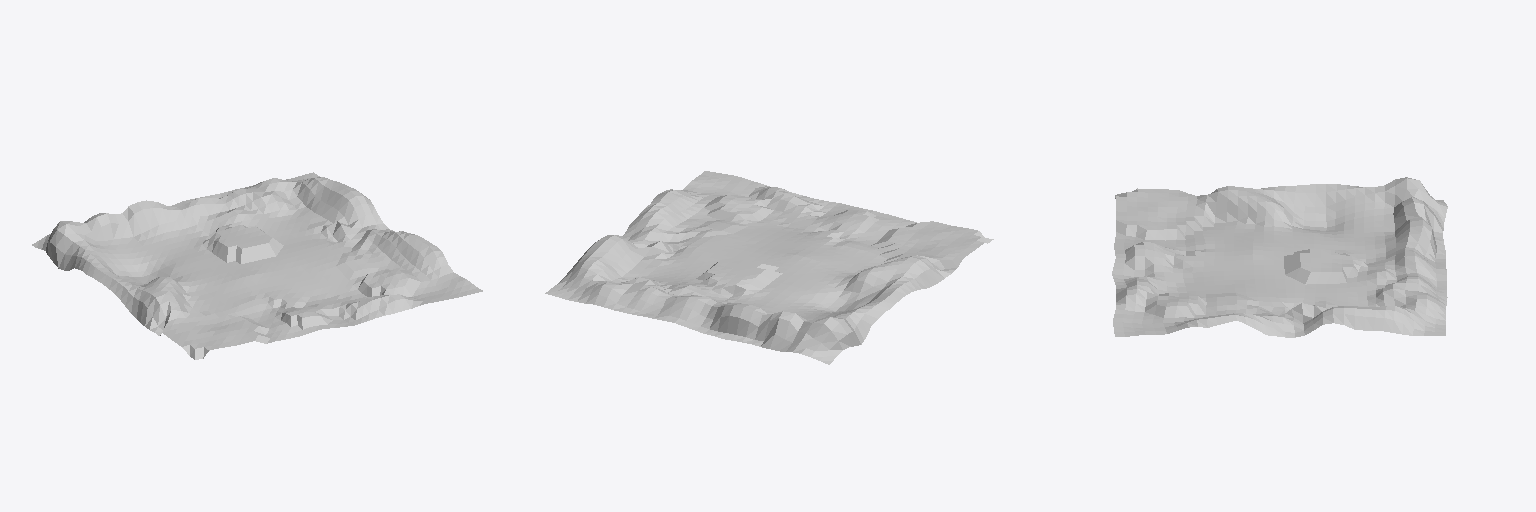
File: Terrain.obj
3 views of the same model, side by side, from view 1: azimuth 30°, elevation 25°; view 2: azimuth 150°, elevation 25°; view 3: azimuth 270°, elevation 25° (orthographic).
Visible parts, largest first — view 1: Plane; view 2: Plane; view 3: Plane.
Part boxes in pixels (left/top/right/bottom): Plane: left=32, top=172, right=482, bottom=359; Plane: left=545, top=171, right=993, bottom=364; Plane: left=1112, top=177, right=1447, bottom=337.
Bounding box in the file's own units: 204 × 21.69 × 204.